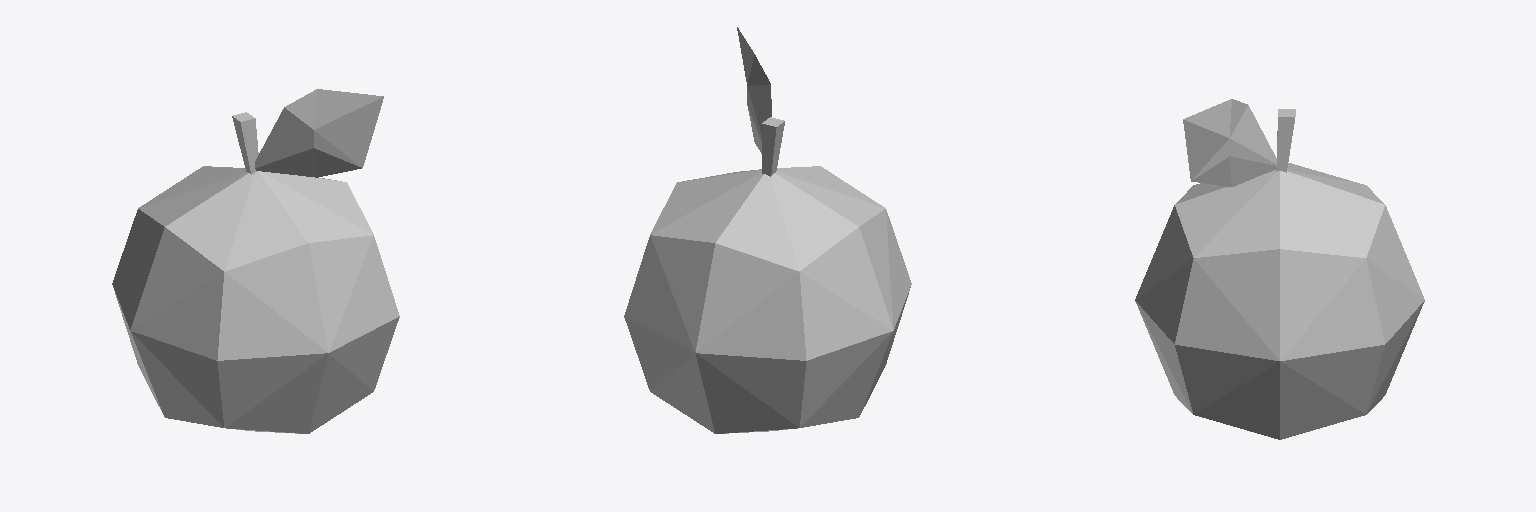
Rendered from apple.obj.
The picture shows the model from 3 angles: view 1: azimuth 30°, elevation 25°; view 2: azimuth 150°, elevation 25°; view 3: azimuth 270°, elevation 25°; orthographic projection.
Parts seen in each view (by area): view 1: Fruit; view 2: Fruit; view 3: Fruit.
Boxes of the visible parts, x1=… form: Fruit: x1=112, y1=89, x2=399, y2=433; Fruit: x1=624, y1=27, x2=911, y2=433; Fruit: x1=1135, y1=99, x2=1424, y2=439.
Bounding box in the file's own units: 1.68 × 2.24 × 1.68.